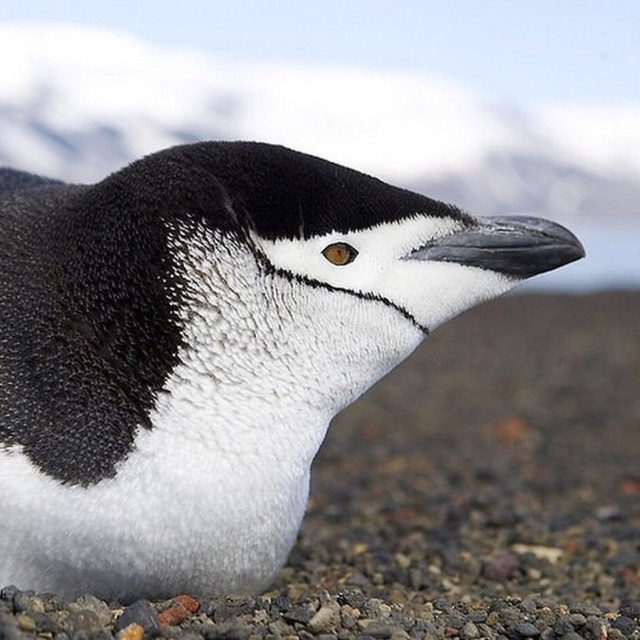Penguin: (6, 126, 597, 614)
